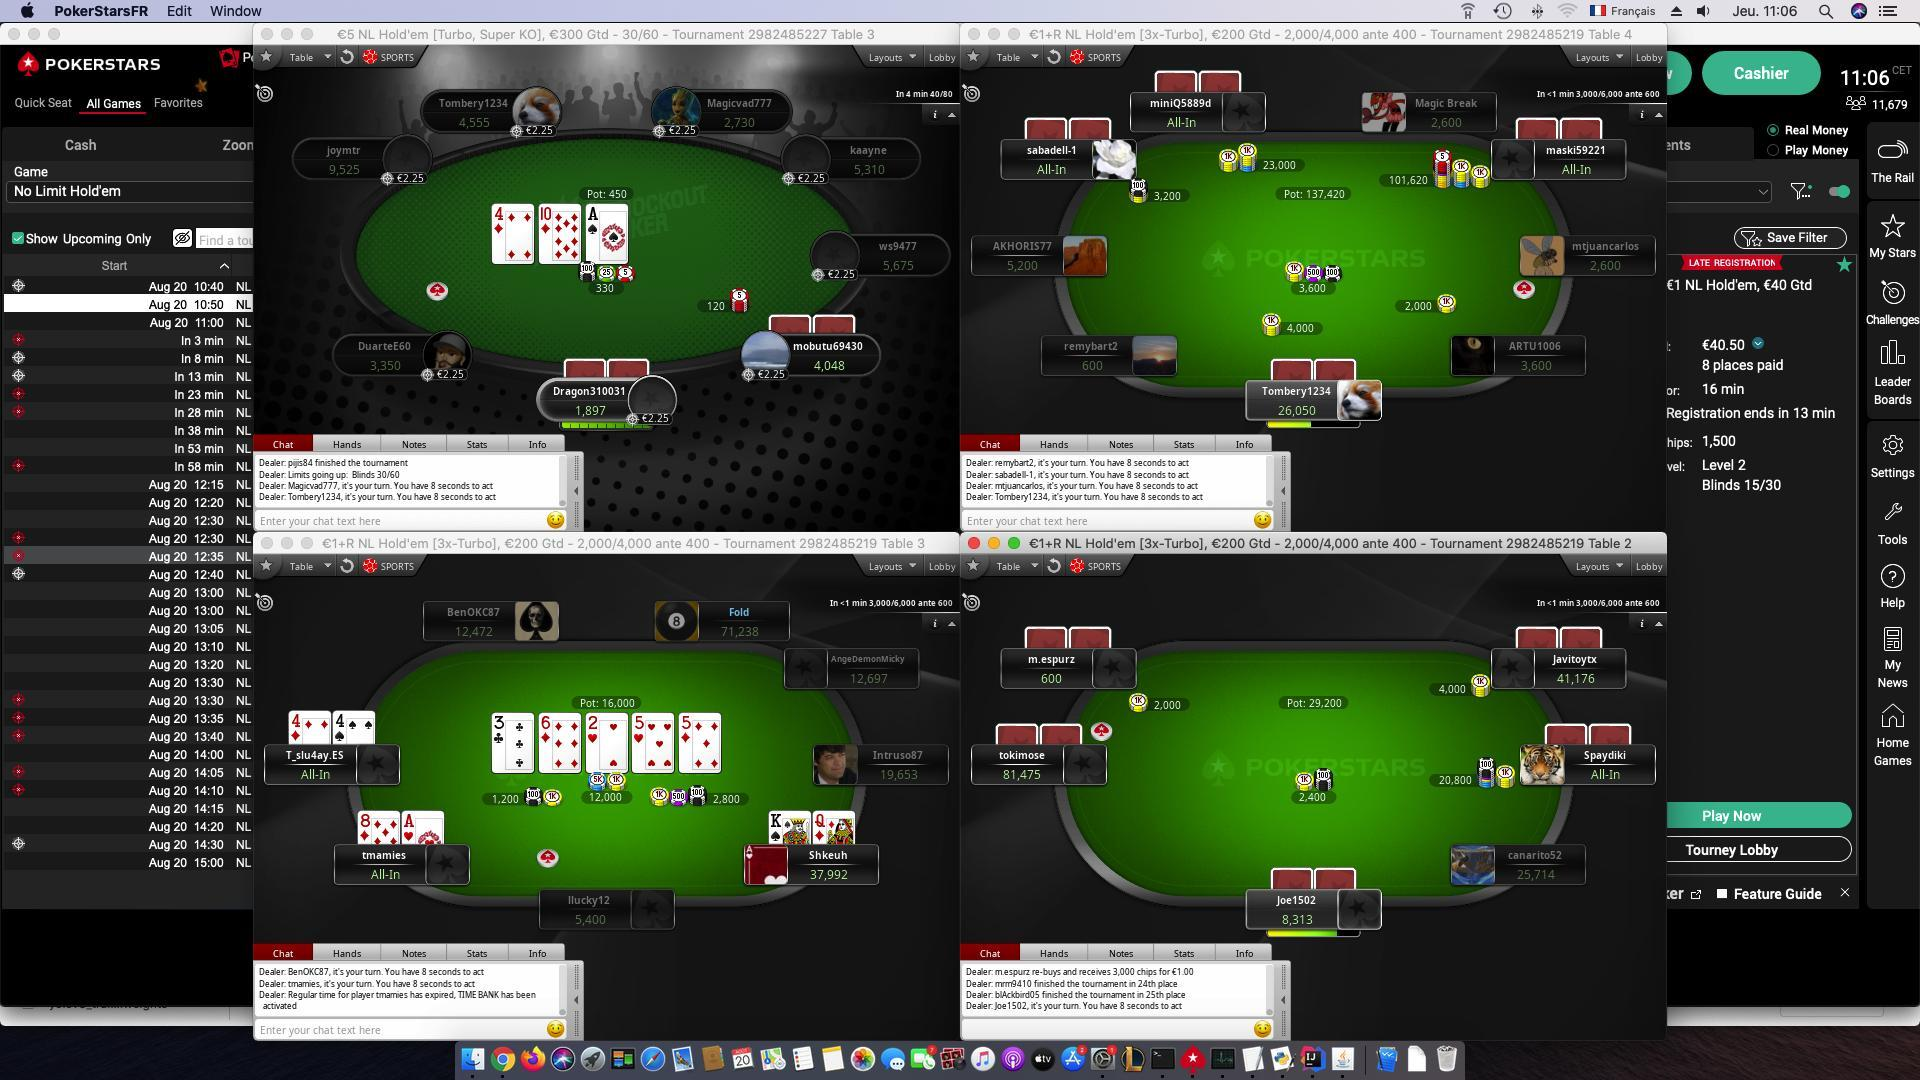10D: (538, 200, 554, 235)
2H: (582, 709, 605, 742)
3C: (491, 712, 506, 748)
4D: (491, 203, 510, 241), (287, 711, 307, 741)
4S: (328, 707, 349, 742)
5D: (678, 712, 696, 745)
5H: (632, 709, 647, 745)
6D: (537, 713, 556, 745)
8D: (352, 807, 375, 844)
AH: (401, 811, 419, 844)
AS: (582, 202, 603, 237)
KS: (766, 810, 789, 844)
QD: (814, 807, 833, 840)
